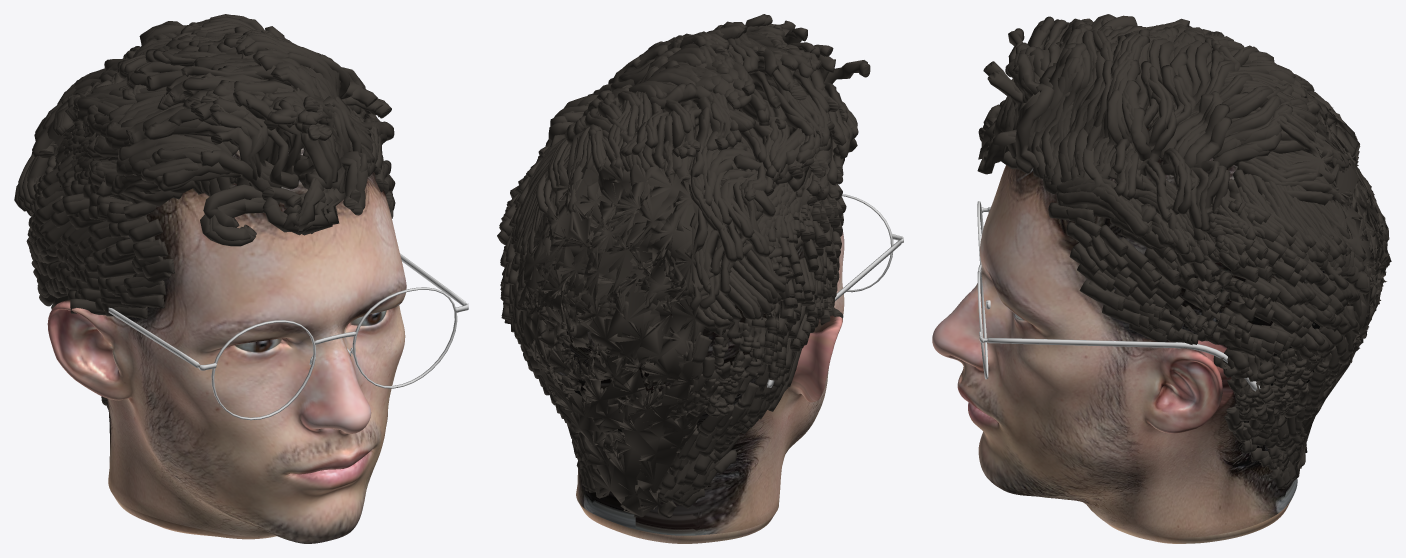
The picture shows the model from 3 angles, left to right: view 1: azimuth 30°, elevation 25°; view 2: azimuth 150°, elevation 25°; view 3: azimuth 270°, elevation 25°; orthographic projection. The views are drawn at different scales.
Visible parts, largest first — view 1: Head; view 2: Head; view 3: Head.
Boxes of the visible parts, box(x1,y1,x2,y2) form: Head: box(14, 14, 468, 543); Head: box(497, 14, 903, 543); Head: box(932, 14, 1391, 543).
Size of the model in its own units: 1.47 by 2.13 by 1.85.
Materials: 3 (1 with a texture image).
